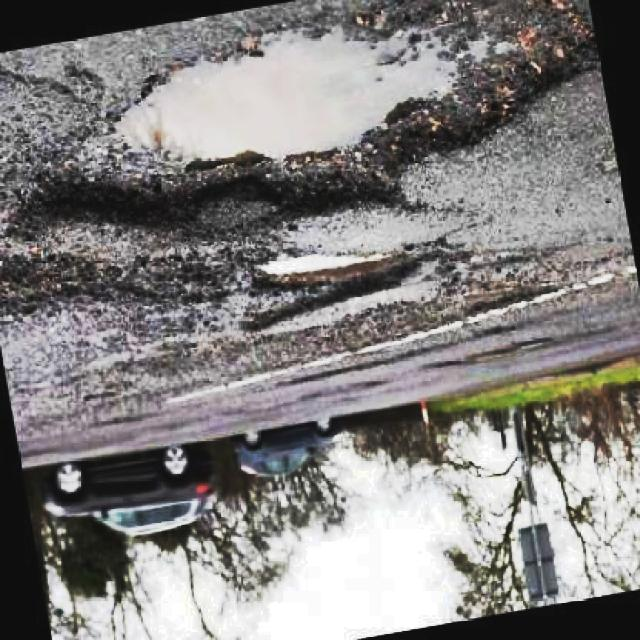pothole: (34, 0, 597, 229), (243, 243, 442, 292)
